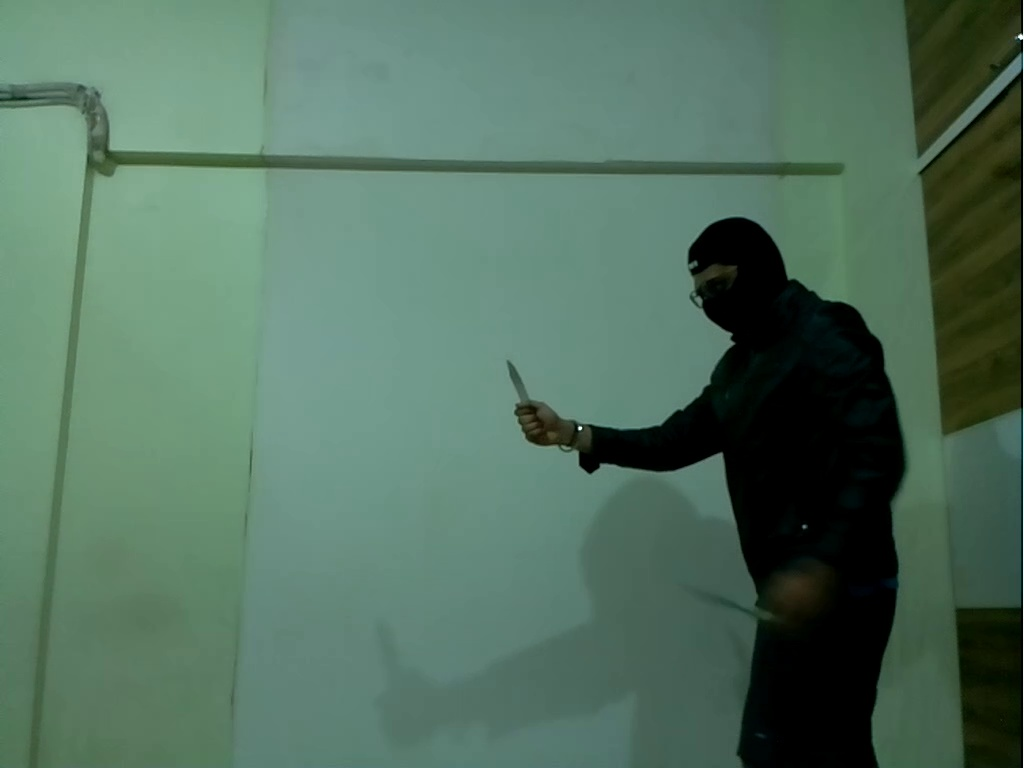knife: (496, 353, 538, 419)
